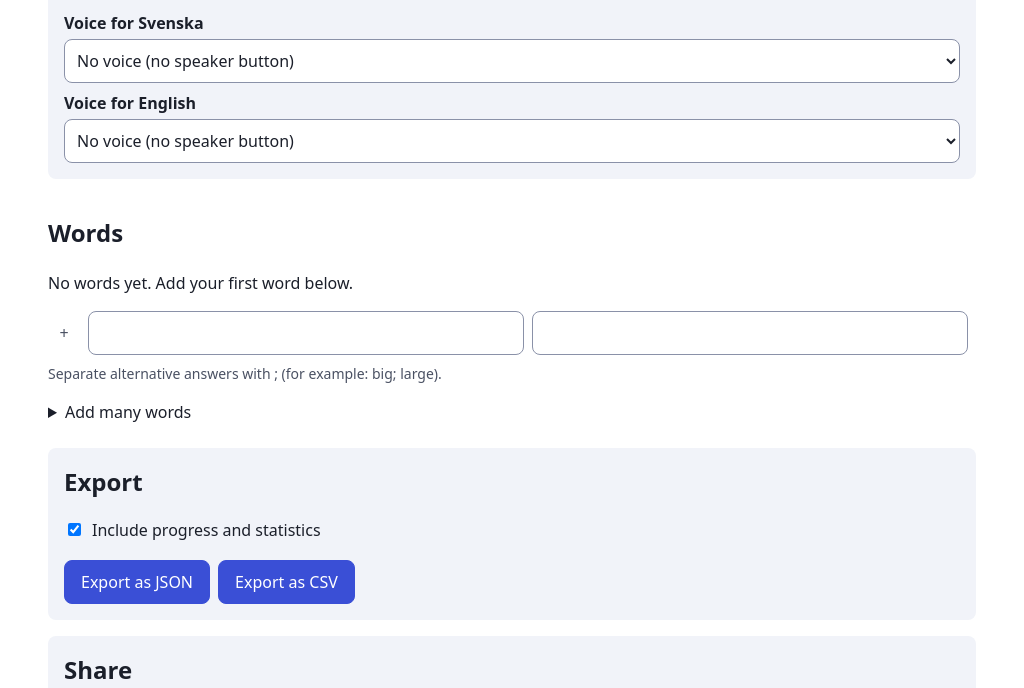
Test: adding pairs › FR-SET-6: saves a complete row when the focus leaves it and trims whitespace
(page scrolled)
Expected: the heading "Words" is shown, 48,216 -> 123,249
Type "  båt " into the field named "Svenska, new word". click: (306, 333)
box: 88,311 -> 524,355
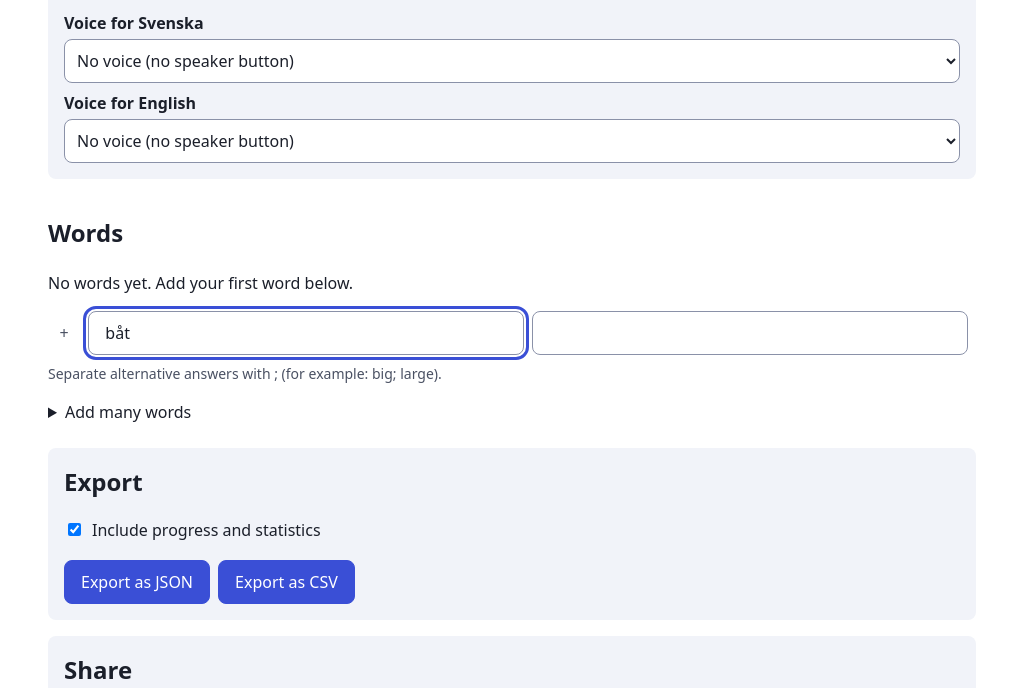
Type " boat  " into the field named "English, new word". click: (750, 333)
box: 532,311 -> 968,355
(page scrolled)
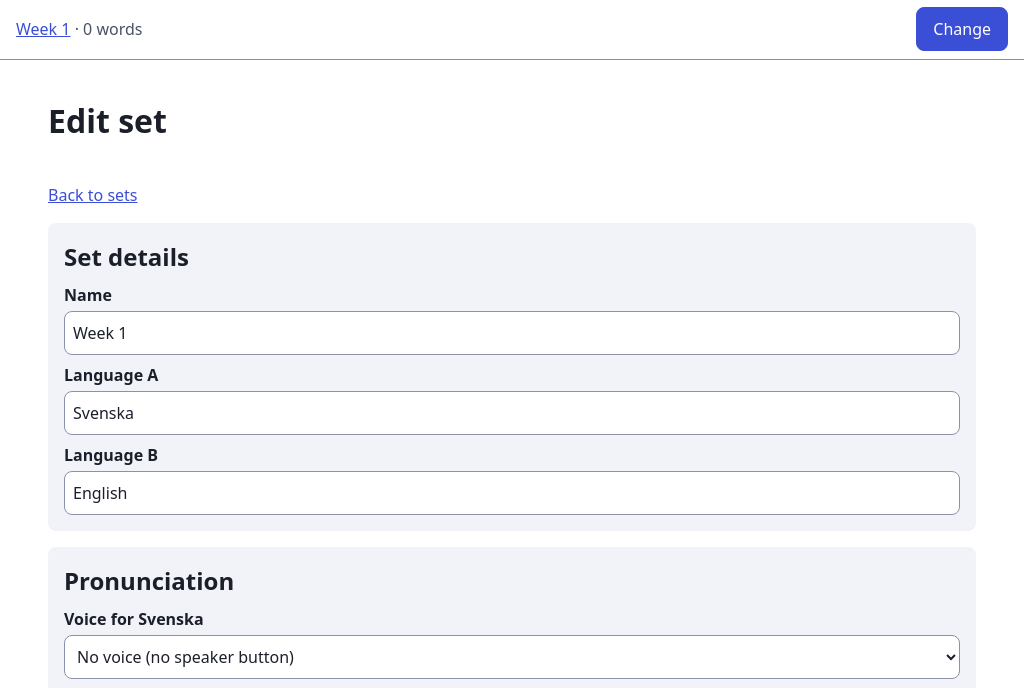
Click the field labelled "Name". click: (512, 333)
box: 64,311 -> 960,355
(page scrolled)
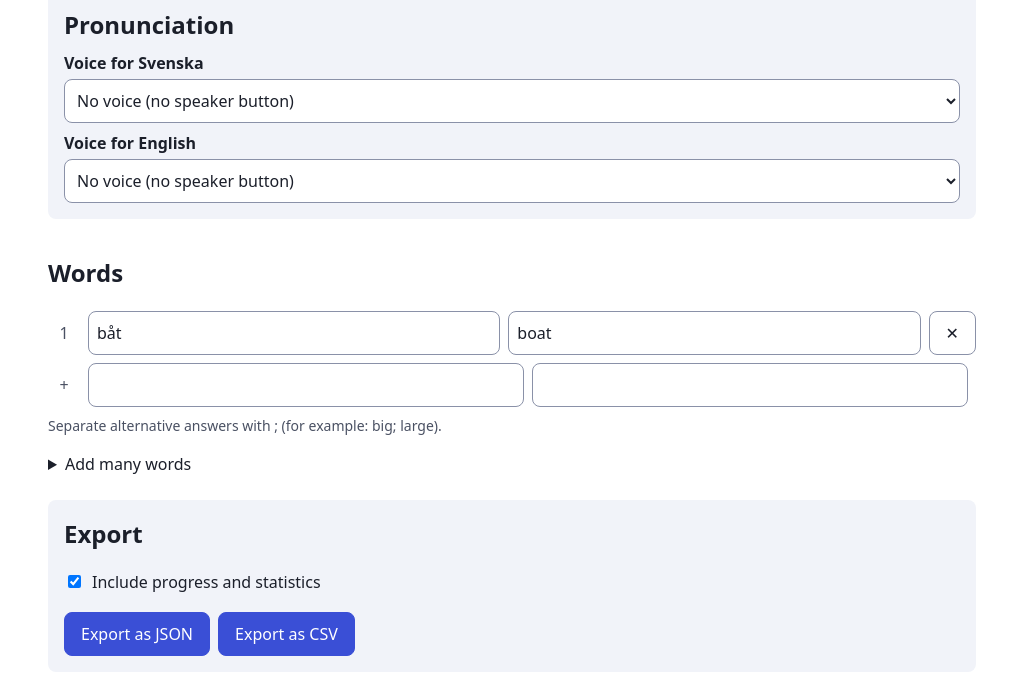
Expected: the field named "Svenska, word 1" holds "båt", 88,311 -> 500,355
Expected: the field named "English, word 1" holds "boat", 508,311 -> 921,355
